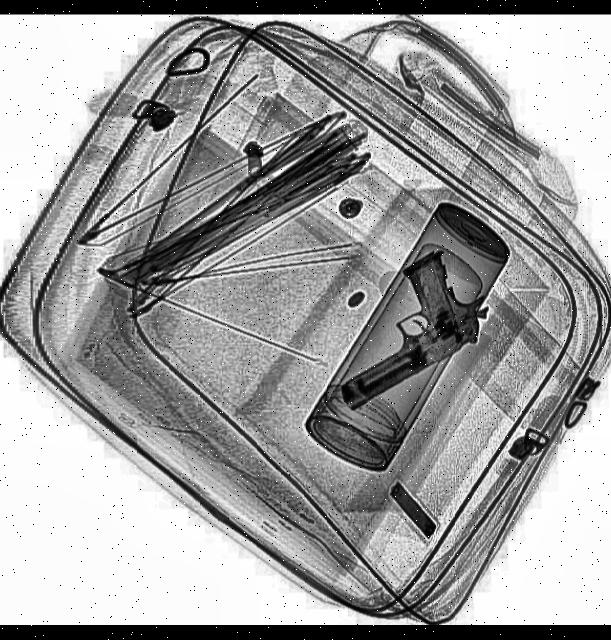Gun: (300, 238, 500, 415)
